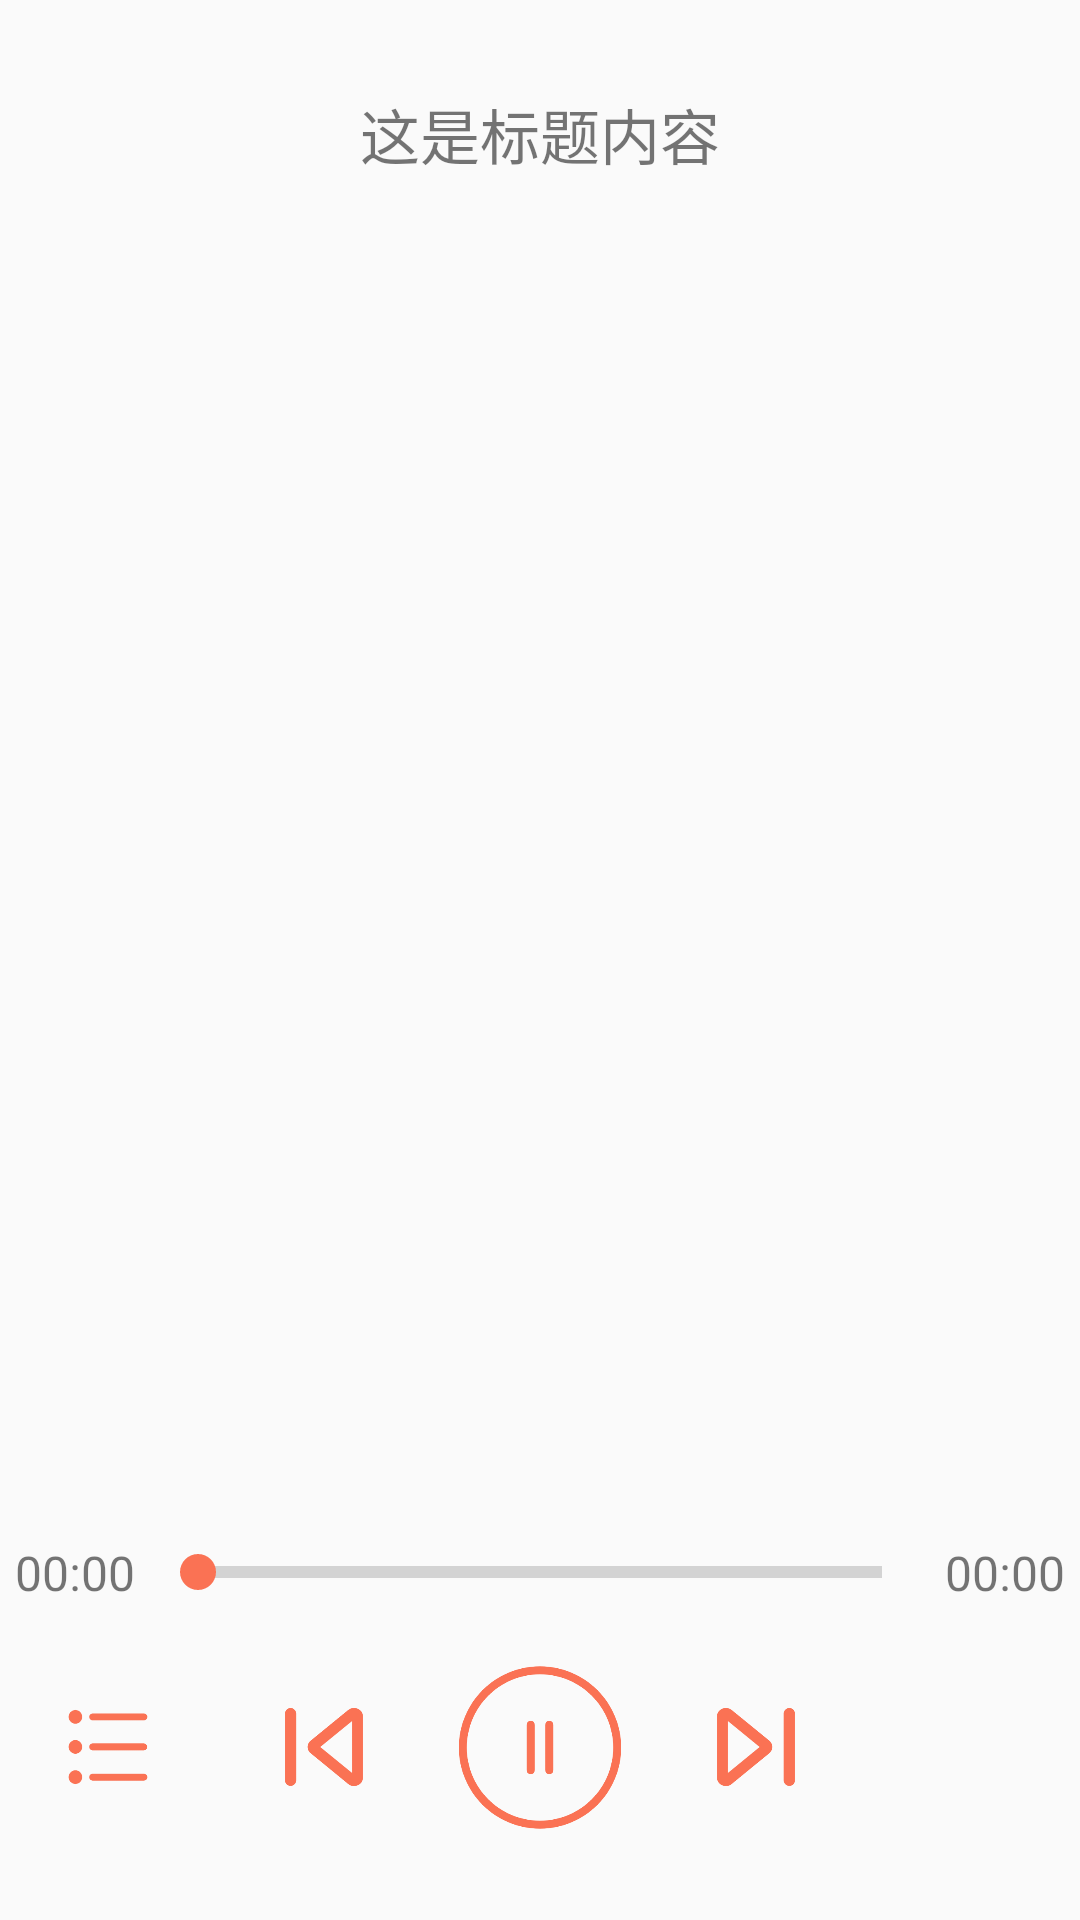

Where to tap for icons on this 1080 x 1920 app screen, as (x,y):
list order: (108,1747)
next: (756,1747)
pause: (540,1747)
previous: (324,1747)
